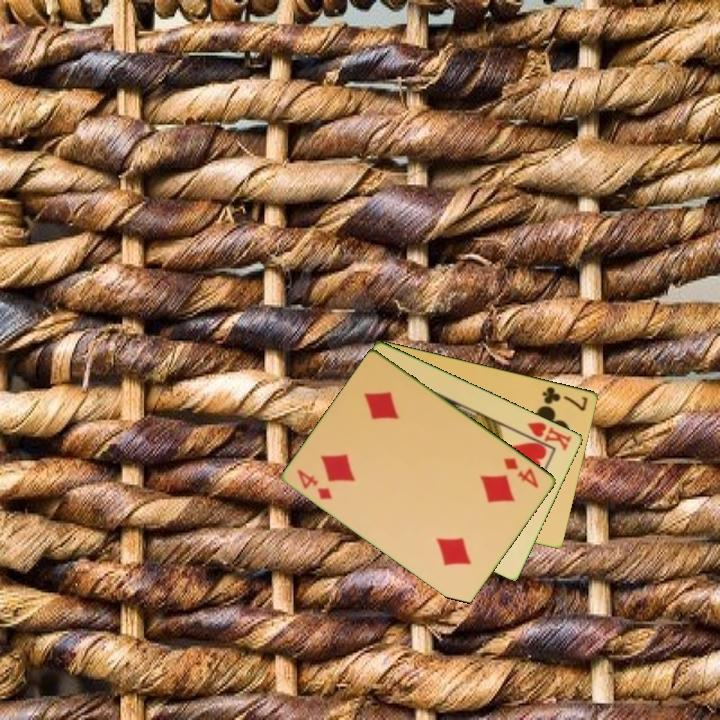4d: (500, 454, 542, 491), (294, 465, 335, 502)
7c: (539, 383, 591, 414)
Kh: (518, 418, 575, 454)
